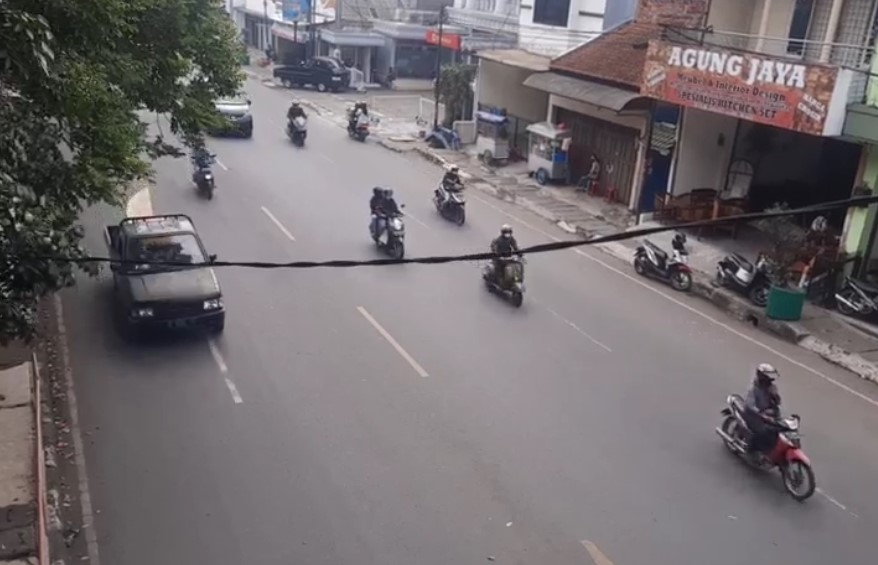mobil: (114, 204, 225, 339)
motor: (727, 355, 817, 498), (475, 225, 534, 305), (354, 190, 412, 258), (433, 165, 478, 234), (282, 103, 314, 155)
